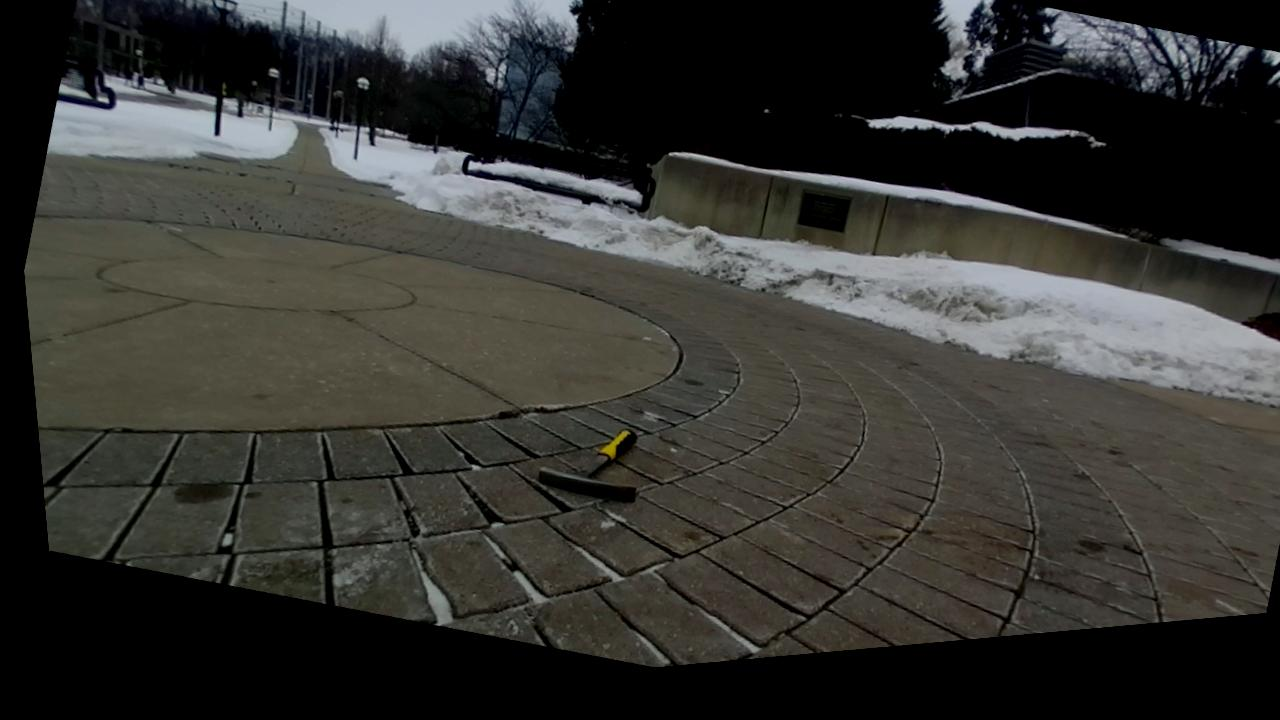pick: (540, 430, 636, 502)
